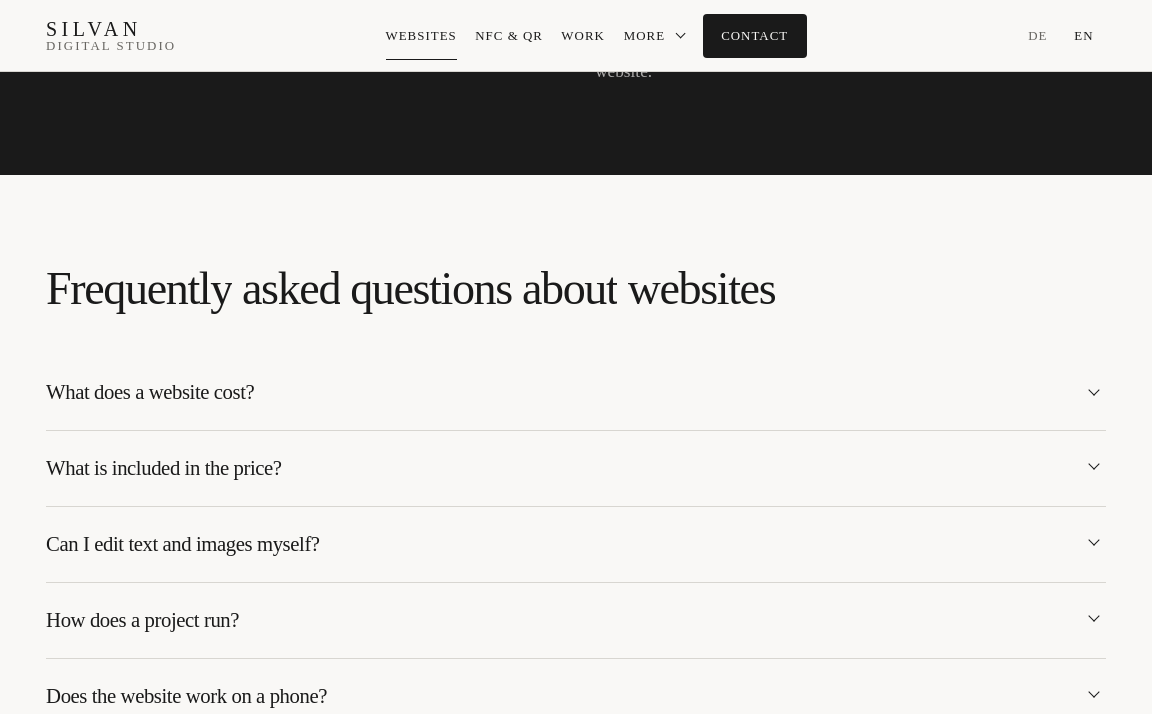
Test: service page FAQs › renders every websites (en) question with an accessible answer disclosure
(page scrolled)
Expected: the heading "Frequently asked questions about websites" is shown, left=46, top=265, right=878, bottom=312
What coordinates should you click on to do the following:
click the heading "What does a website cost?"
I would click on:
 (150, 392)
Its box is left=46, top=381, right=254, bottom=403.
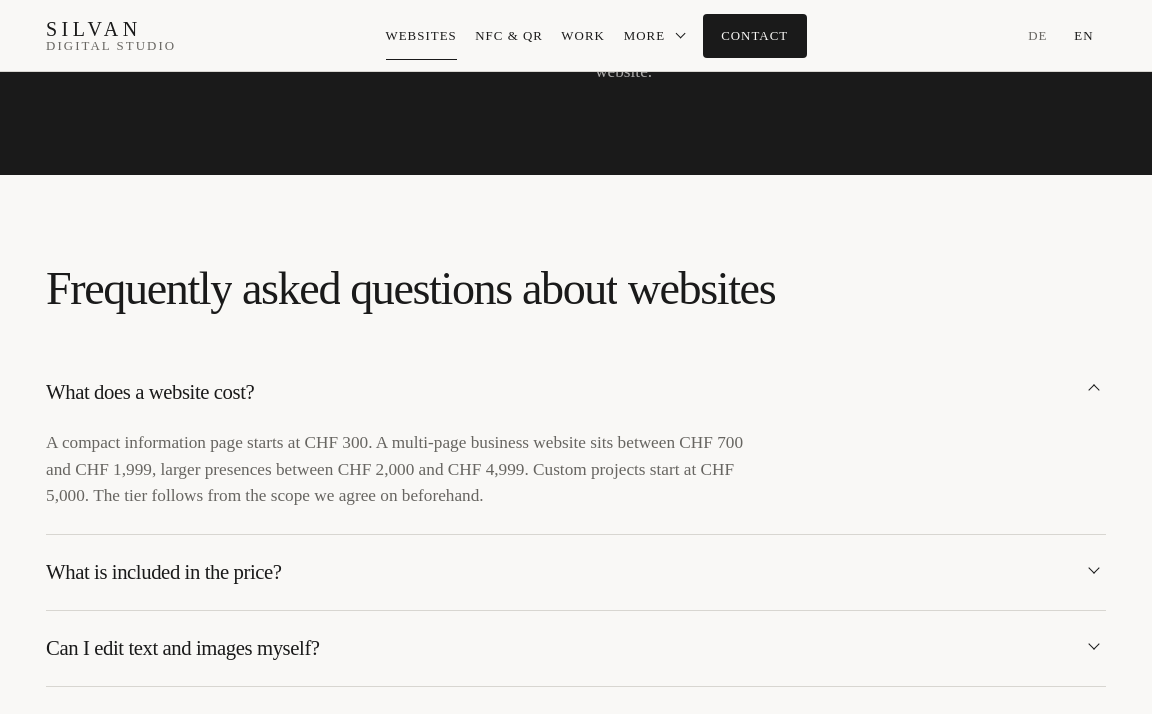
Result: the text "A compact information page starts at CHF 300. A multi-page business website sits between CHF 700 and CHF 1,999, larger p" is shown at left=46, top=433, right=743, bottom=505
What coordinates should you click on to do the following:
click the heading "What is included in the price?"
I would click on:
 (164, 572)
Its box is left=46, top=561, right=282, bottom=583.
(page scrolled)
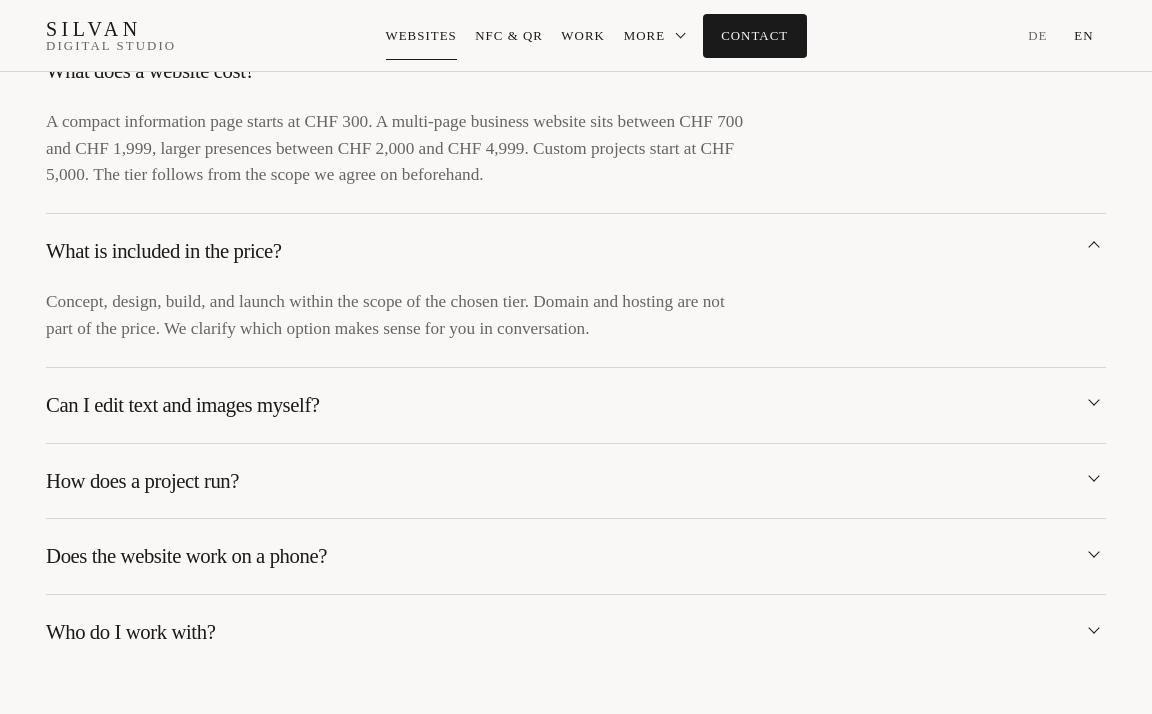
Result: the text "Concept, design, build, and launch within the scope of the chosen tier. Domain and hosting are not part of the price. We" is shown at left=46, top=292, right=725, bottom=338
What coordinates should you click on to do the following:
click the heading "Can I edit text and images myself?"
I would click on:
 (183, 405)
Its box is left=46, top=394, right=320, bottom=416.
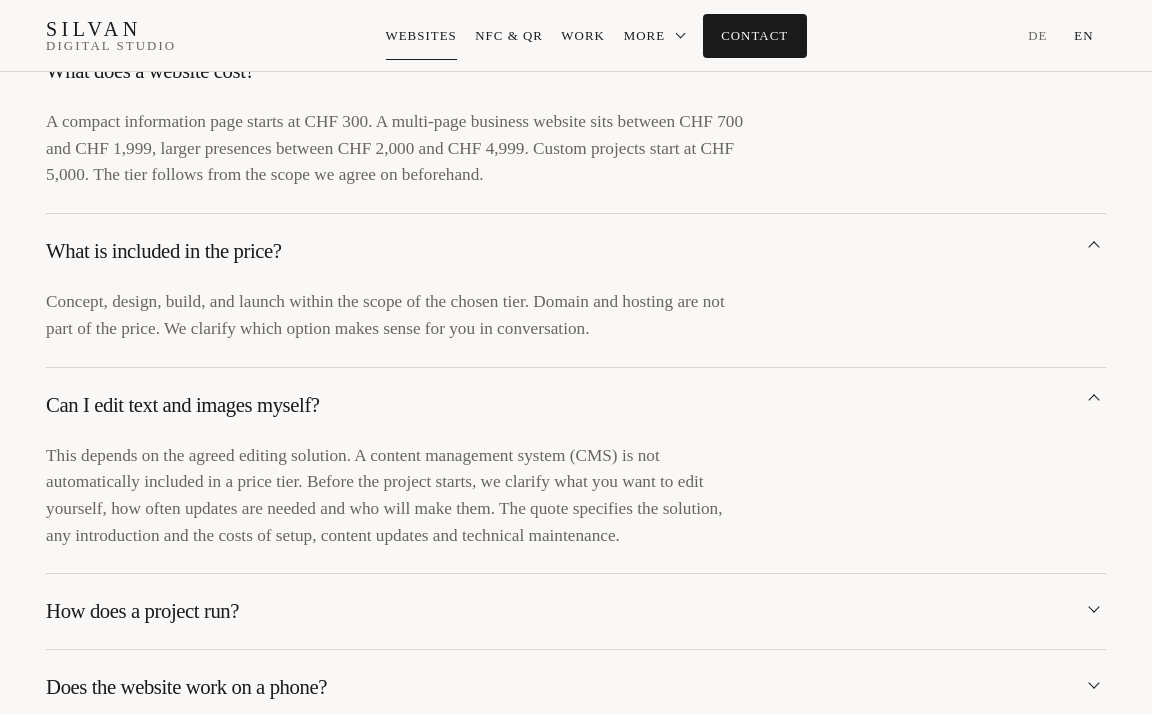
Result: the text "This depends on the agreed editing solution. A content management system (CMS) is not automatically included in a price " is shown at left=46, top=446, right=722, bottom=545
What coordinates should you click on to do the following:
click the heading "How does a project run?"
I would click on:
 (143, 612)
Its box is left=46, top=600, right=239, bottom=622.
(page scrolled)
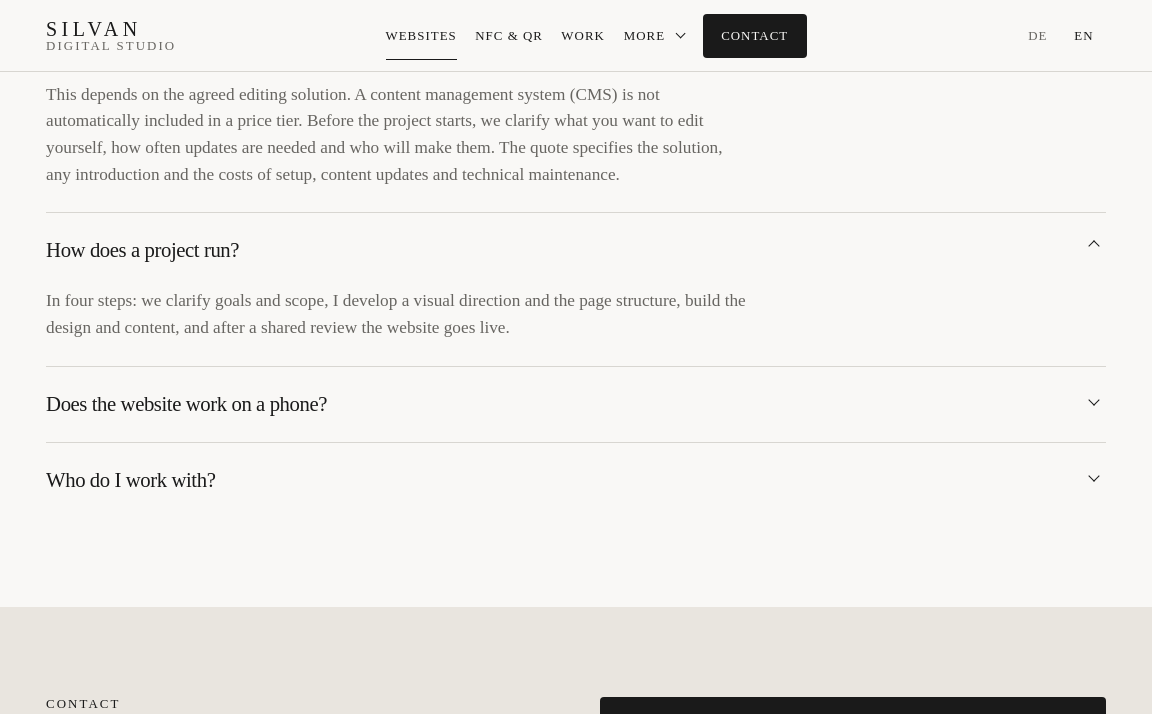
Result: the text "In four steps: we clarify goals and scope, I develop a visual direction and the page structure, build the design and con" is shown at left=46, top=291, right=746, bottom=337
What coordinates should you click on to do the following:
click the heading "Does the website work on a phone?"
I would click on:
 (187, 404)
Its box is left=46, top=393, right=327, bottom=415.
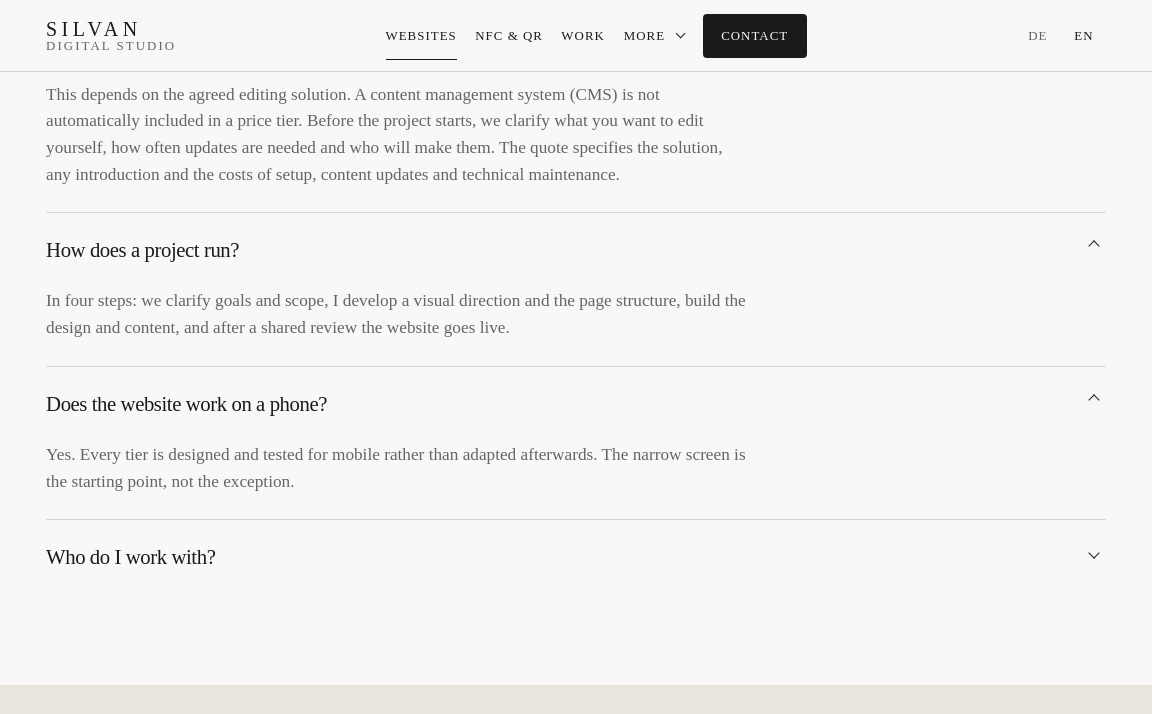
Result: the text "Yes. Every tier is designed and tested for mobile rather than adapted afterwards. The narrow screen is the starting poin" is shown at left=46, top=445, right=746, bottom=490
What coordinates should you click on to do the following:
click the heading "Who do I work with?"
I would click on:
 (131, 557)
Its box is left=46, top=546, right=215, bottom=568.
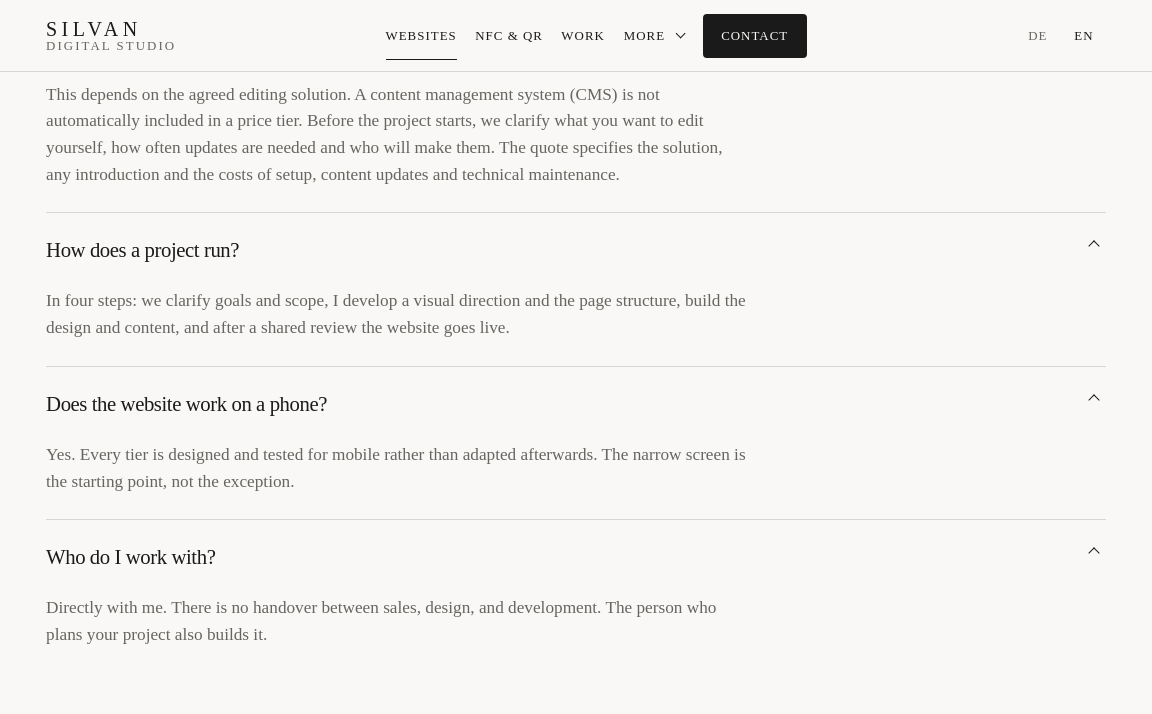
Result: the text "Directly with me. There is no handover between sales, design, and development. The person who plans your project also bu" is shown at left=46, top=598, right=716, bottom=644
